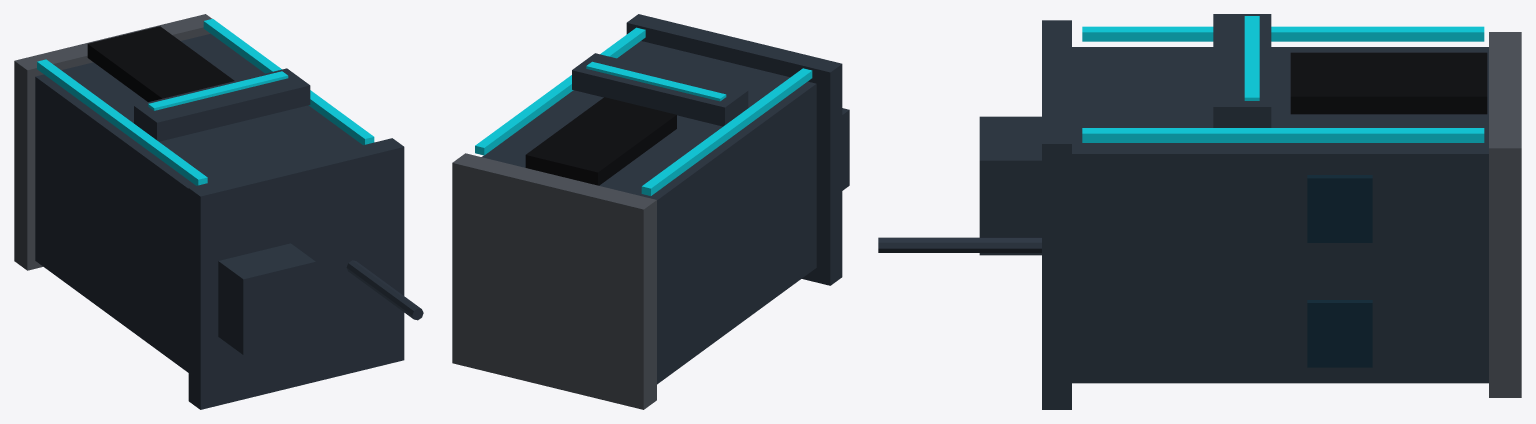
File: ENV_building_clinic.obj
3 renders of one model, left to right at view 1: azimuth 30°, elevation 25°; view 2: azimuth 150°, elevation 25°; view 3: azimuth 270°, elevation 25°, orthographic. The views are drawn at different scales.
Visible parts, largest first — view 1: ENV_building_clinic; view 2: ENV_building_clinic; view 3: ENV_building_clinic.
Boxes of the visible parts, box(x1,y1,x2,y2) form: ENV_building_clinic: box(14, 14, 423, 409); ENV_building_clinic: box(452, 14, 849, 409); ENV_building_clinic: box(878, 14, 1521, 409).
Bounding box in the file's own units: 1.97 × 2.16 × 4.32.
